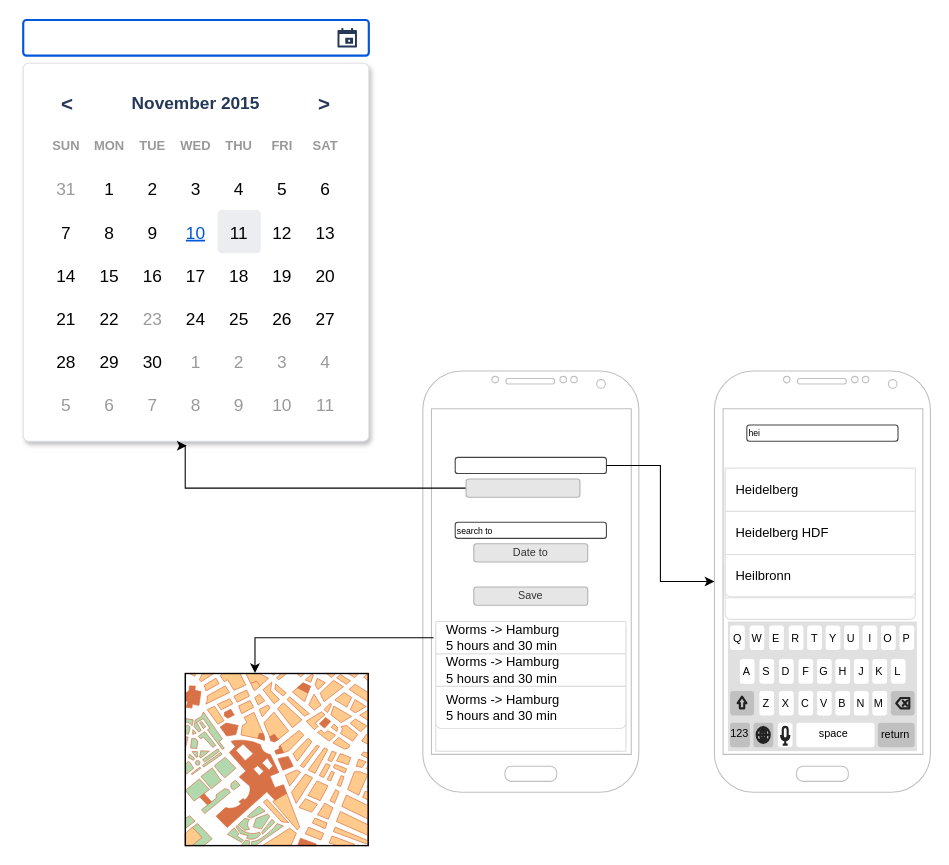
Image size: 949x865. Some labels were removed from this diagram. The centre of each missing label's shape, as x and y in pixels:
"Date From" goes at [522,487].
"search from" goes at [530,465].
"Today" goes at [195,37].
